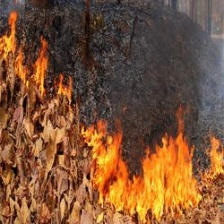fire: (4, 35, 223, 221)
